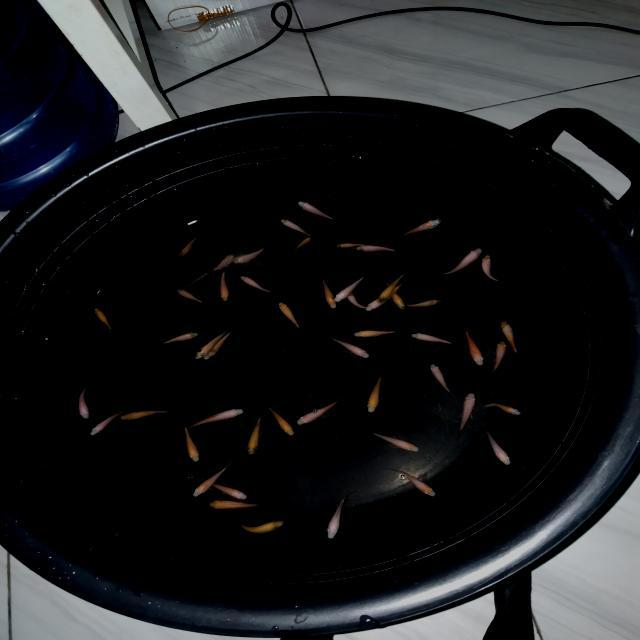nila: (294, 391, 350, 426), (190, 459, 236, 500), (384, 466, 442, 498), (323, 491, 355, 546), (478, 424, 515, 467), (436, 245, 484, 278), (183, 405, 247, 429), (87, 403, 127, 440), (293, 196, 344, 225), (364, 277, 404, 313), (455, 326, 488, 368), (231, 514, 288, 538), (376, 267, 411, 305), (392, 214, 444, 239), (202, 326, 239, 361), (327, 334, 373, 362), (332, 272, 372, 304), (372, 429, 424, 452), (428, 361, 459, 399), (192, 327, 227, 360), (498, 318, 524, 362), (115, 406, 178, 424), (270, 300, 304, 331), (240, 271, 280, 297), (244, 412, 266, 458), (364, 370, 386, 416), (270, 405, 298, 441), (278, 216, 320, 240), (456, 388, 478, 430), (182, 418, 202, 464), (480, 252, 508, 283), (156, 328, 204, 346), (487, 338, 509, 376), (382, 280, 409, 310), (175, 232, 201, 262), (316, 278, 340, 310), (76, 378, 92, 424), (88, 306, 116, 332), (343, 283, 368, 312), (409, 332, 459, 346), (206, 252, 235, 276), (177, 285, 208, 306), (211, 482, 249, 499), (486, 401, 524, 418), (234, 245, 266, 265), (348, 327, 400, 339), (203, 501, 265, 511), (353, 243, 402, 255), (404, 297, 442, 311), (290, 238, 315, 256), (218, 272, 230, 304), (335, 240, 365, 250)
